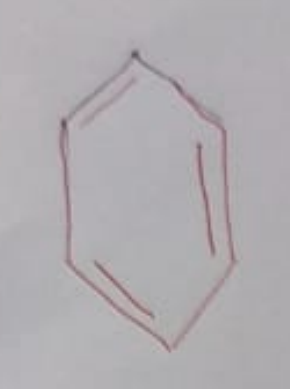shape_mask: (50, 38, 250, 361)
